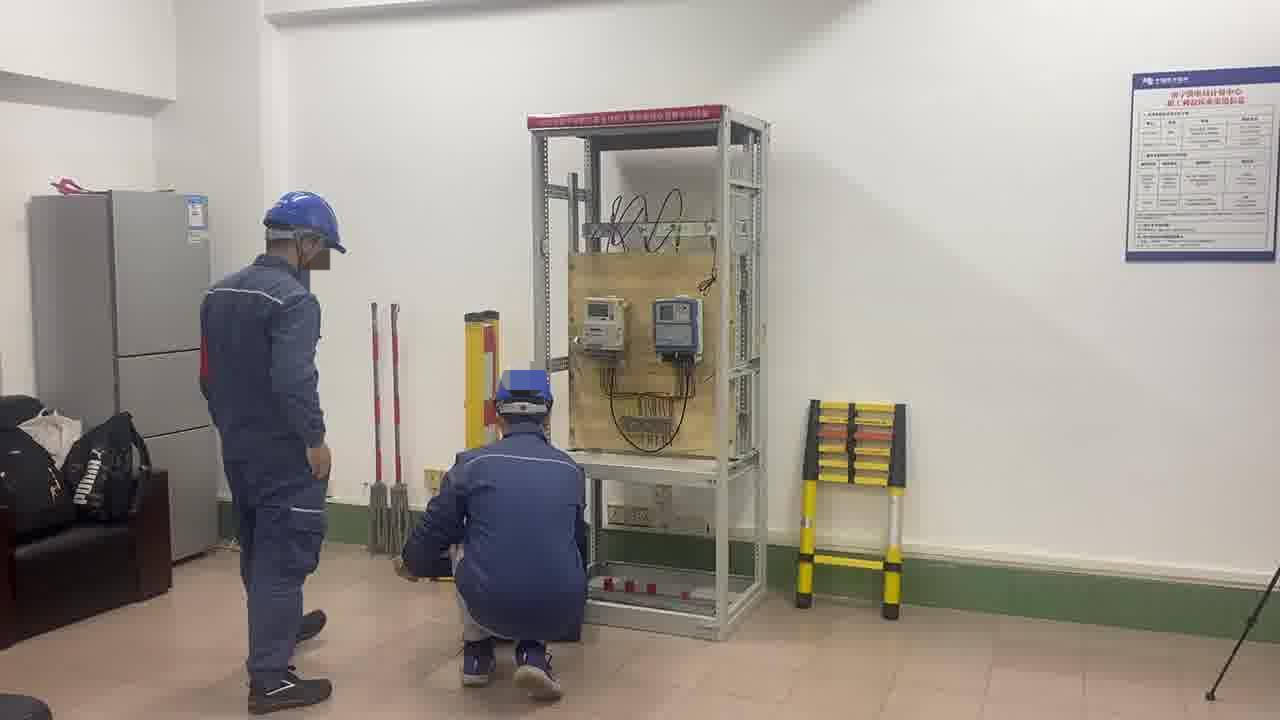halt: (263, 193, 348, 277), (491, 367, 559, 436)
inear: (295, 231, 326, 274)
